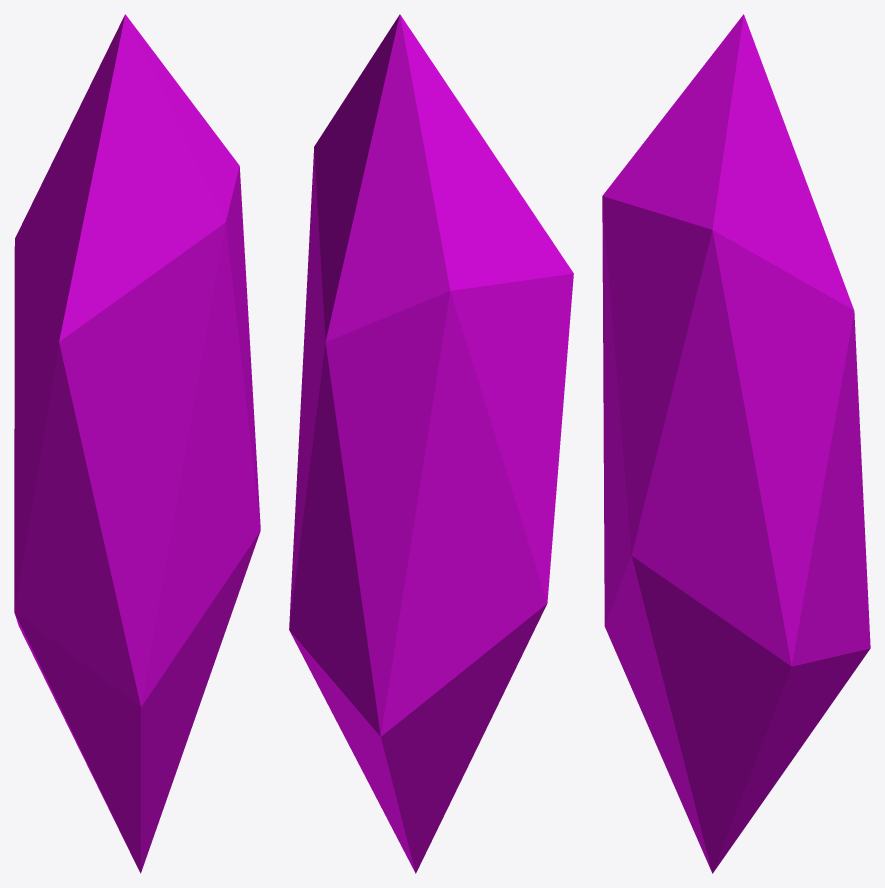
File: FuelCore.fbx
The picture shows the model from 3 angles, left to right: view 1: azimuth 30°, elevation 25°; view 2: azimuth 150°, elevation 25°; view 3: azimuth 270°, elevation 25°; orthographic projection. The views are drawn at different scales.
Visible parts, largest first — view 1: FuelCore; view 2: FuelCore; view 3: FuelCore.
Boxes of the visible parts, left/top/right/bottom form: FuelCore: left=14, top=14, right=260, bottom=873; FuelCore: left=289, top=14, right=573, bottom=873; FuelCore: left=602, top=14, right=870, bottom=873.
Size of the model in its own units: 204 by 732 by 207.
